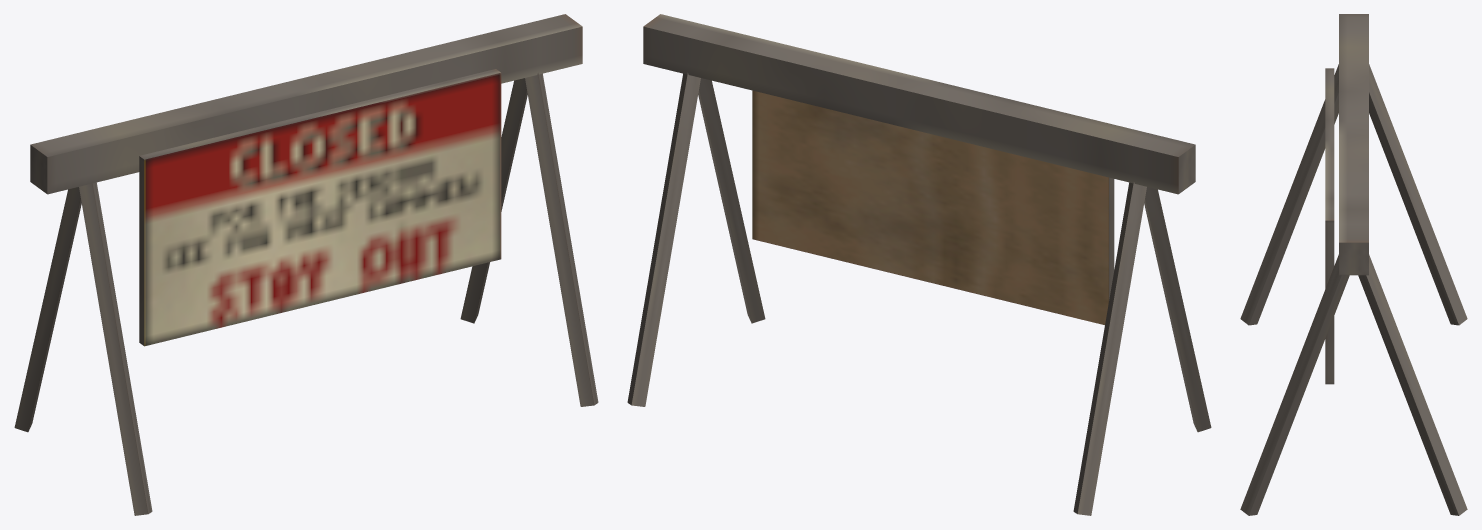
The model's file is barricade_closed.obj.
3 renders of one model, left to right at view 1: azimuth 30°, elevation 25°; view 2: azimuth 150°, elevation 25°; view 3: azimuth 270°, elevation 25°, orthographic. The views are drawn at different scales.
Visible parts, largest first — view 1: barricade_closed; view 2: barricade_closed; view 3: barricade_closed.
Boxes of the visible parts, <box> form: barricade_closed: <box>14,14,598,515</box>; barricade_closed: <box>627,14,1211,515</box>; barricade_closed: <box>1240,14,1467,515</box>.
Bounding box in the file's own units: 1.8 × 1.07 × 0.7566.
1 material, 1 textured.
